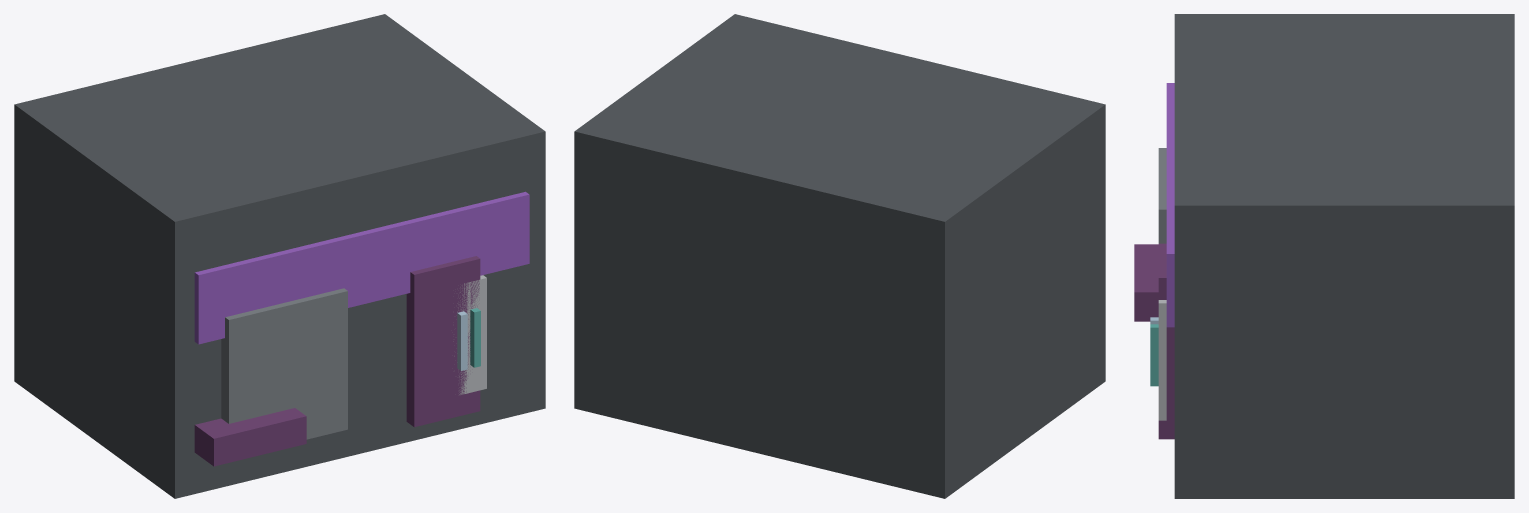
The model's file is dark_web_cafe.glb.
The picture shows the model from 3 angles, left to right: view 1: azimuth 30°, elevation 25°; view 2: azimuth 150°, elevation 25°; view 3: azimuth 270°, elevation 25°; orthographic projection. The views are drawn at different scales.
Parts seen in each view (by area): view 1: world; view 2: world; view 3: world.
Boxes of the visible parts, box(x1,y1,x2,y2) form: world: box(14, 14, 545, 498); world: box(574, 14, 1105, 498); world: box(1134, 14, 1514, 498).
Bounding box in the file's own units: 1 × 0.7143 × 0.8393.
